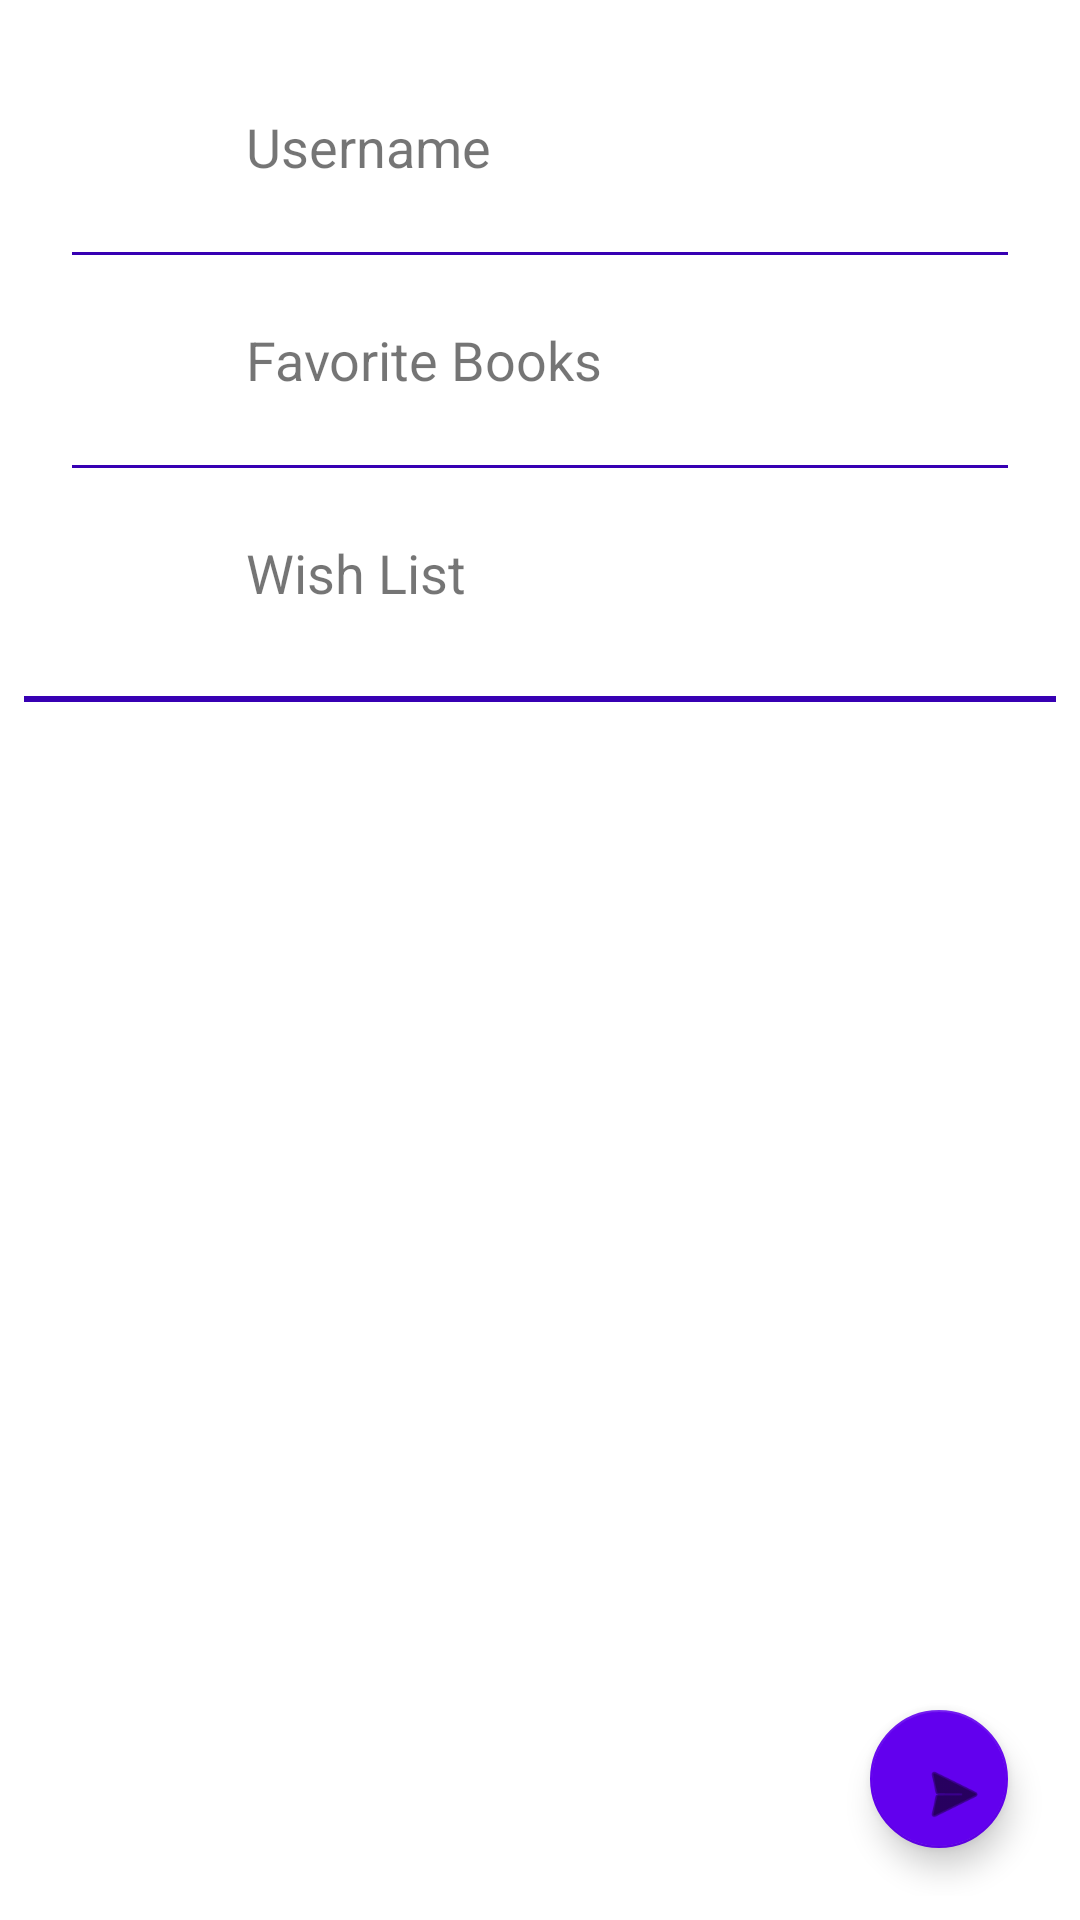

Where icons sit on this 1080x1920 app screen, as [x1, y1, x2, y2]:
send: [870, 1710, 1008, 1848]
